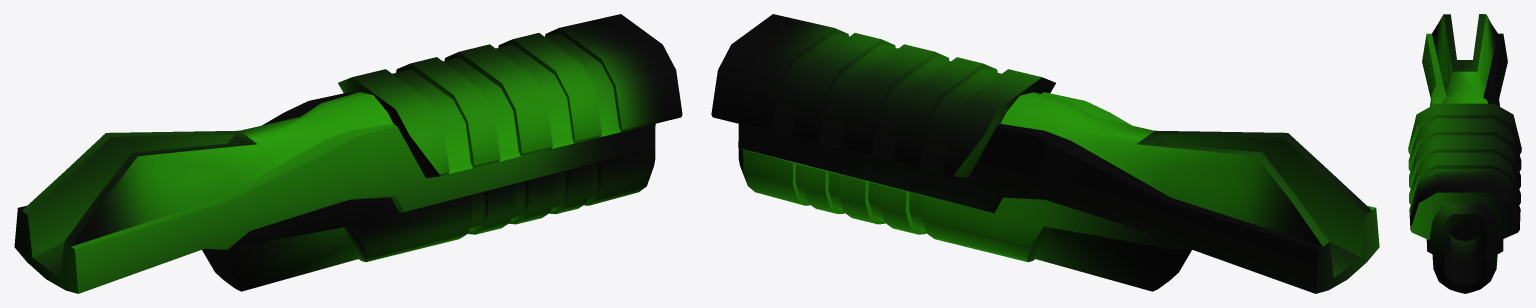
The picture shows the model from 3 angles, left to right: view 1: azimuth 30°, elevation 25°; view 2: azimuth 150°, elevation 25°; view 3: azimuth 270°, elevation 25°; orthographic projection. The views are drawn at different scales.
Parts seen in each view (by area): view 1: Plasmagun_noesis_meshnode_0000; view 2: Plasmagun_noesis_meshnode_0000; view 3: Plasmagun_noesis_meshnode_0000.
Boxes of the visible parts, box(x1,y1,x2,y2) form: Plasmagun_noesis_meshnode_0000: box(14, 14, 682, 293); Plasmagun_noesis_meshnode_0000: box(711, 14, 1379, 293); Plasmagun_noesis_meshnode_0000: box(1408, 14, 1521, 293).
Size of the model in its own units: 28.64 by 7.81 by 7.03.
Materials: 1 (1 with a texture image).
